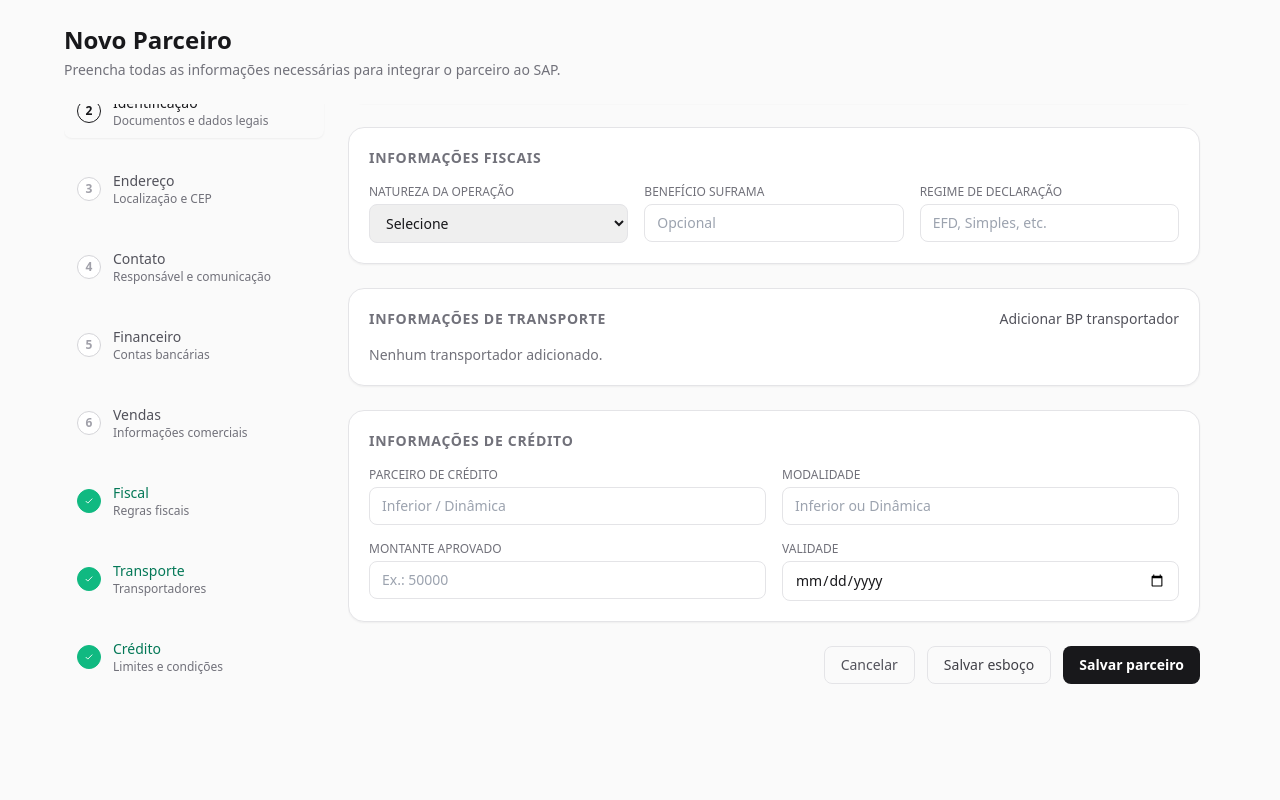
Test: NewPartner address form › shows address validation errors when submitting empty form
(page scrolled)
Click the button "Salvar parceiro": click(1132, 665) x1=1063 y1=646 x2=1200 y2=684
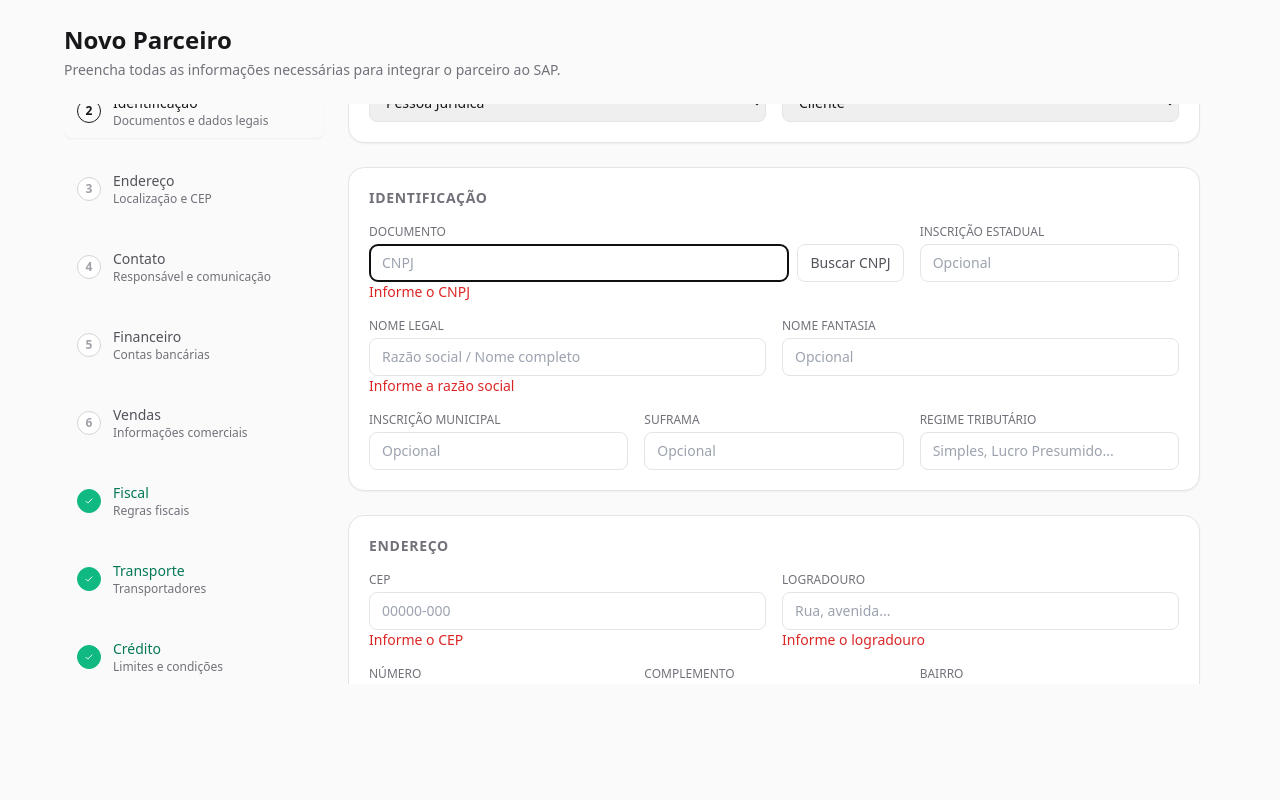
Now the text "Informe o CEP" is shown, box x1=369 y1=630 x2=463 y2=649
Now the text "Informe o logradouro" is shown, box x1=782 y1=630 x2=925 y2=649
